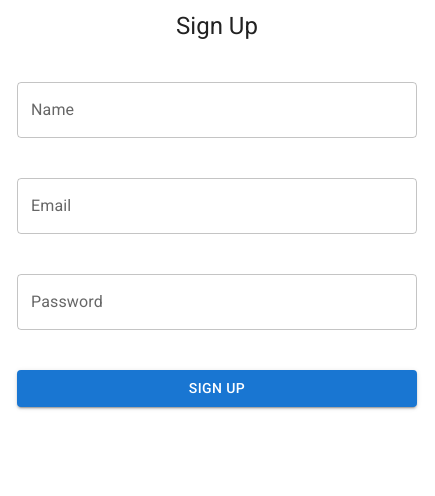
Test case: SignUpForm › show validation errors on empty submit
Click the button "Sign Up" at (217, 389), box x1=17 y1=370 x2=417 y2=407
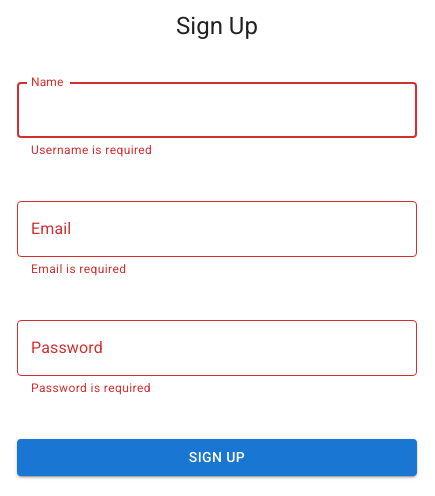
expect the text "Username is required" is shown: met, box x1=31 y1=143 x2=152 y2=157
expect the text "Email is required" is shown: met, box x1=31 y1=262 x2=126 y2=276
expect the text "Password is required" is shown: met, box x1=31 y1=381 x2=151 y2=395
